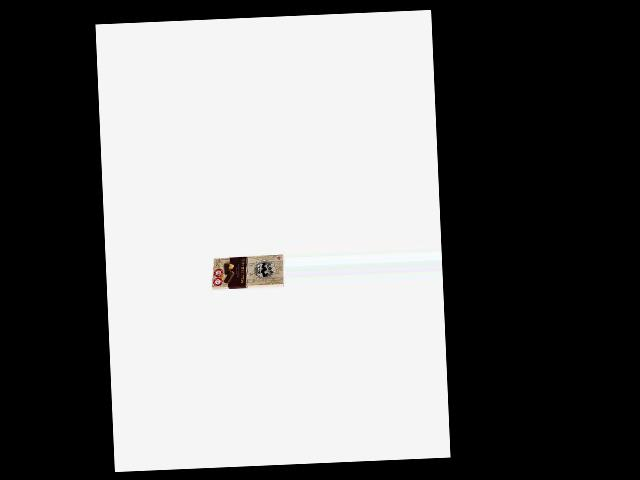chocolate: (209, 253, 284, 295)
